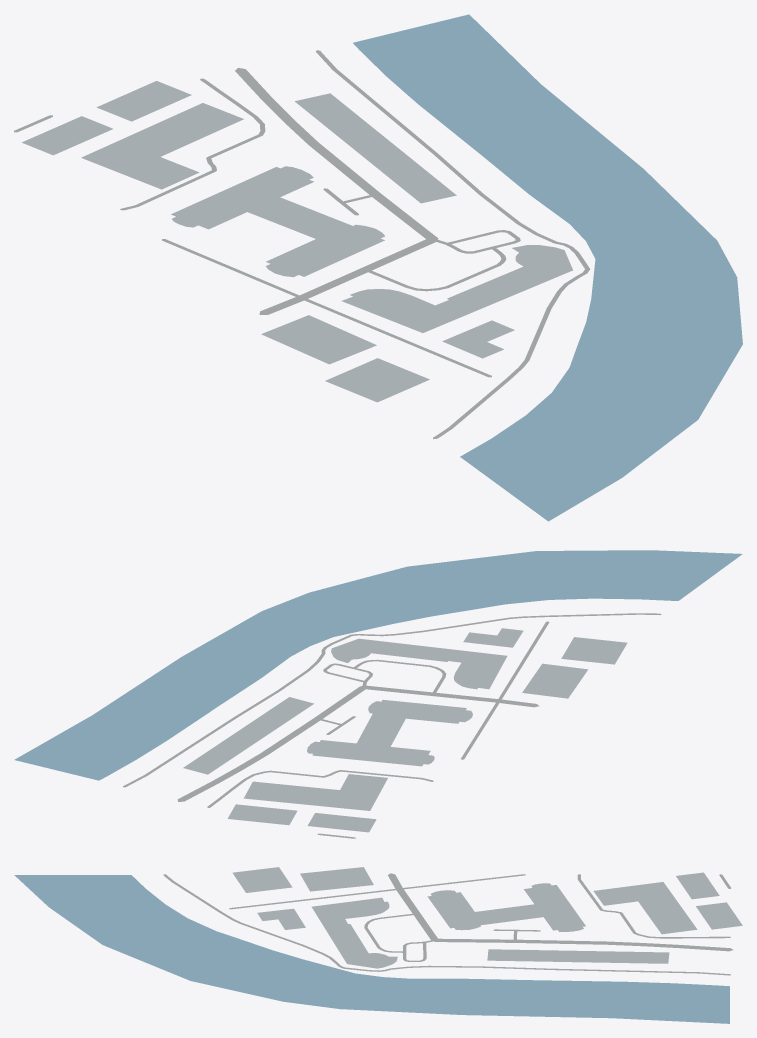
File: 3_-4-known-fine.glb
3 views of the same model, one above another, from view 1: azimuth 30°, elevation 25°; view 2: azimuth 150°, elevation 25°; view 3: azimuth 270°, elevation 25° (orthographic). The views are drawn at different scales.
Bounding box in the file's own units: 335 × 0.15 × 658.
